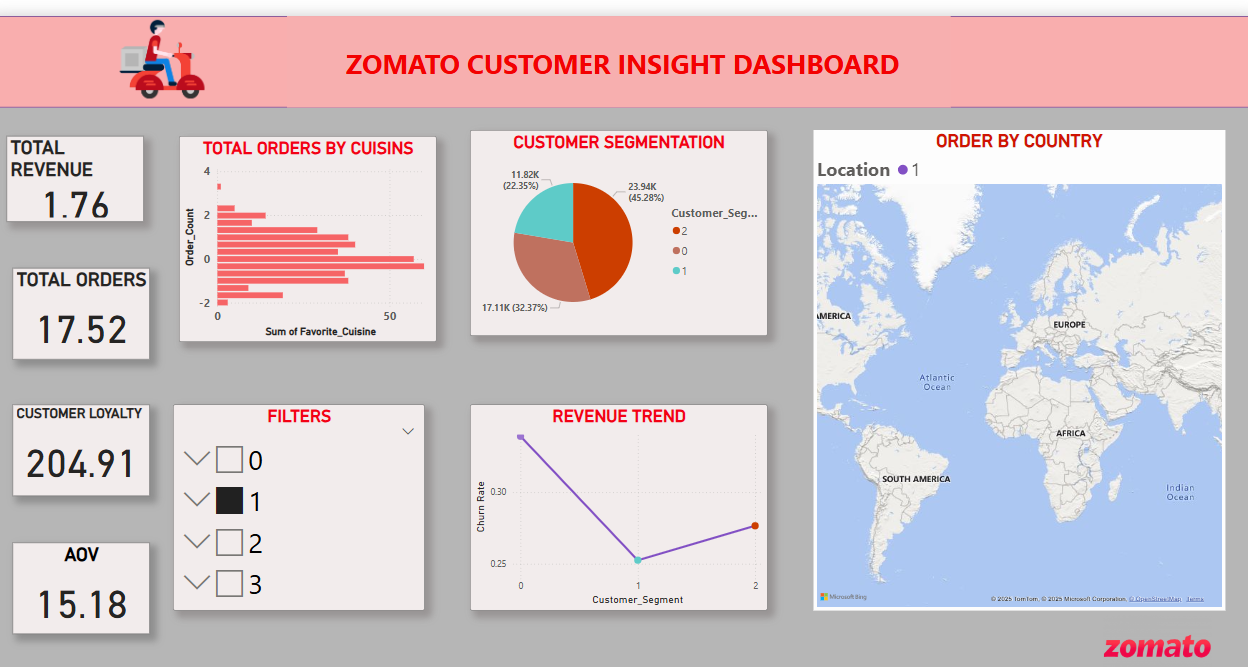

The page's visual inventory and layout, read from the dashboard file:
{"tool":"powerbi","page":{"name":"Page 2","canvas":[1773,936],"ordinal":0},"visuals":[{"type":"shape","box":[-16,0,2016,128],"z":0},{"type":"image","box":[64,0,192,128],"z":1000},{"type":"textbox","box":[416,0,928,128],"z":2000},{"type":"card","title":"TOTAL REVENUE","fields":{"Values":["Zomato_Customer_Data.Total Revenue"]},"box":[24,168,192,120],"z":3000},{"type":"card","title":"TOTAL ORDERS","fields":{"Values":["Zomato_Customer_Data.Total Orders"]},"box":[32,352,192,128],"z":4000},{"type":"card","title":"CUSTOMER LOYALTY","fields":{"Values":["Avg(Zomato_Customer_Data.Customer_Loyalty_Score)"]},"box":[32,544,192,128],"z":5000},{"type":"card","title":"AOV","fields":{"Values":["Sum(Zomato_Customer_Data.Average_Order_Value)"]},"box":[32,736,192,128],"z":6000},{"type":"barChart","title":"TOTAL ORDERS BY CUISINS","fields":{"Y":["Sum(Zomato_Customer_Data.Favorite_Cuisine)"],"Category":["Zomato_Customer_Data.Order_Count"]},"box":[264,168,360,288],"z":7000},{"type":"pieChart","title":"CUSTOMER SEGMENTATION ","fields":{"Category":["Zomato_Customer_Data.Customer_Segment"],"Y":["Sum(Zomato_Customer_Data.Customer_Loyalty_Score)"]},"box":[672,160,416,288],"z":8000},{"type":"lineChart","title":"REVENUE TREND","fields":{"Category":["Zomato_Customer_Data.Customer_Segment"],"Y":["Zomato_Customer_Data.Churn Rate"]},"box":[672,544,416,288],"z":9000},{"type":"slicer","title":"FILTERS","fields":{"Values":["Zomato_Customer_Data.Location","Zomato_Customer_Data.Favorite_Cuisine","Zomato_Customer_Data.Order_Frequency","Zomato_Customer_Data.Discount_Percentage"]},"box":[256,544,352,288],"z":10001},{"type":"map","title":"ORDER BY COUNTRY","fields":{"Series":["Zomato_Customer_Data.Location"],"Size":["Sum(Zomato_Customer_Data.Order_Count)"]},"box":[1152,160,576,672],"z":10002},{"type":"image","box":[1504,832,256,96],"z":10003}]}

Visuals, with their boxes in screenshot pixels (x1, y1, x2, y2), scaled from the page's 1773x936 canvas onto the 1248x667 screenshot:
shape: box(0, 0, 1247, 91)
image: box(45, 0, 180, 91)
textbox: box(293, 0, 946, 91)
"TOTAL REVENUE" card: box(17, 120, 152, 205)
"TOTAL ORDERS" card: box(23, 251, 158, 342)
"CUSTOMER LOYALTY" card: box(23, 388, 158, 479)
"AOV" card: box(23, 524, 158, 616)
"TOTAL ORDERS BY CUISINS" barChart: box(186, 120, 439, 325)
"CUSTOMER SEGMENTATION " pieChart: box(473, 114, 766, 319)
"REVENUE TREND" lineChart: box(473, 388, 766, 593)
"FILTERS" slicer: box(180, 388, 428, 593)
"ORDER BY COUNTRY" map: box(811, 114, 1216, 593)
image: box(1059, 593, 1239, 661)
